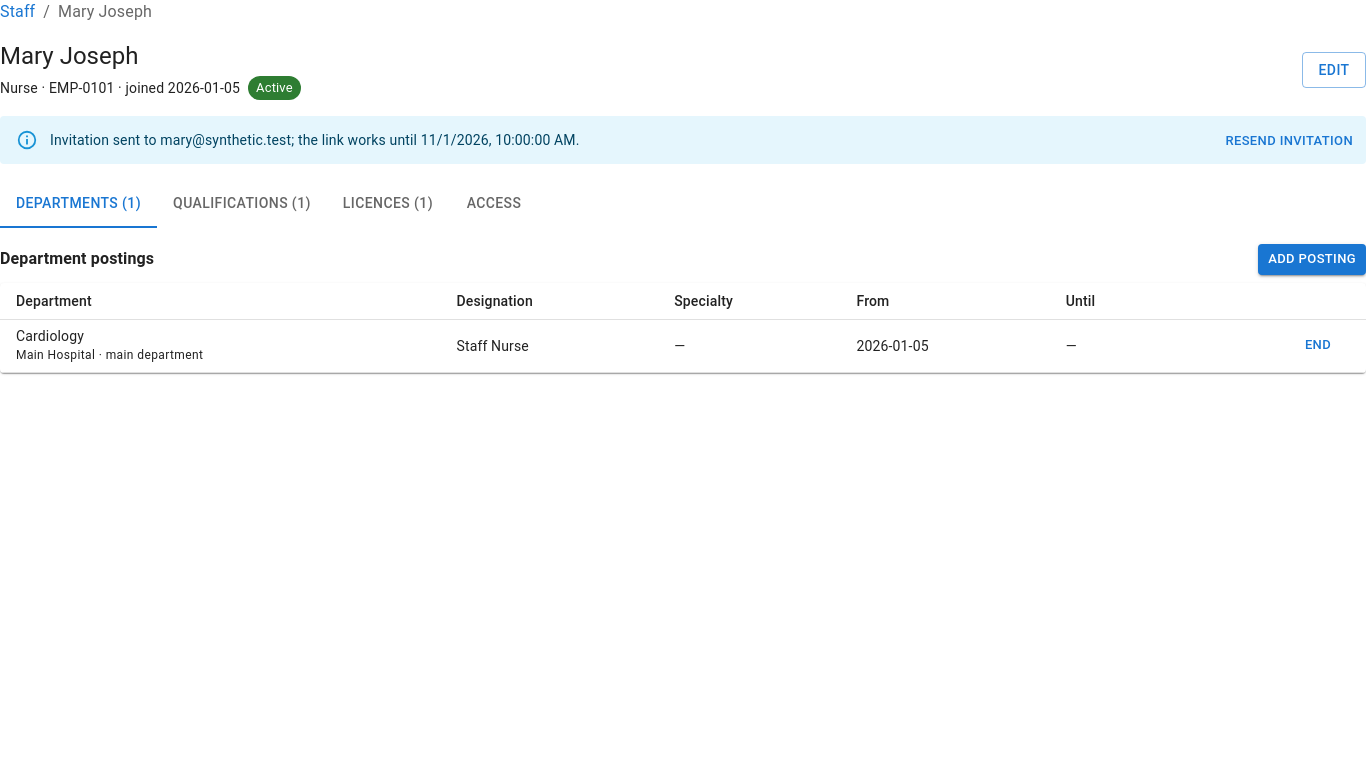
Staff screens › verifies a qualification and shows licence expiry
The image size is (1366, 768).
Click the tab "Qualifications (1)" at {"x": 242, "y": 204}, box left=157, top=180, right=327, bottom=228
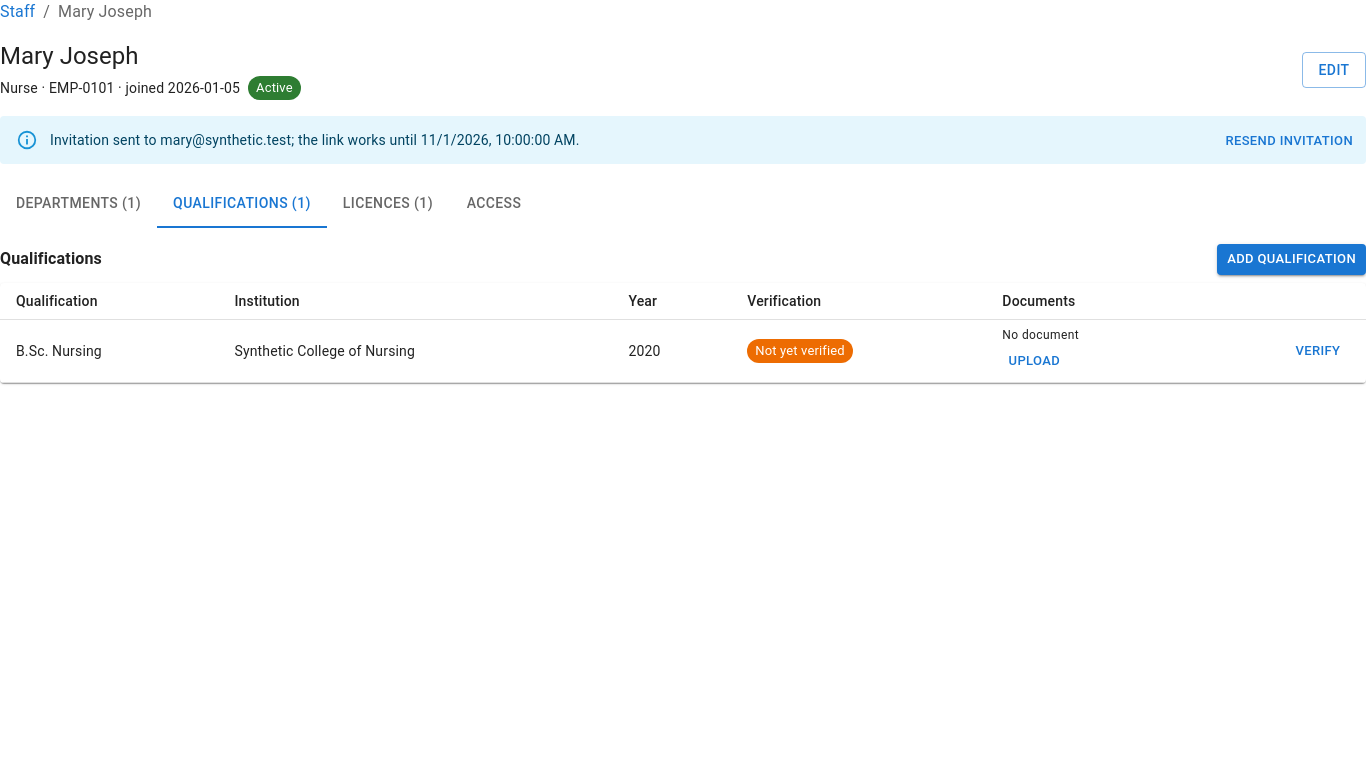
Click the button "Verify" at {"x": 1318, "y": 351}, box left=1286, top=336, right=1350, bottom=366
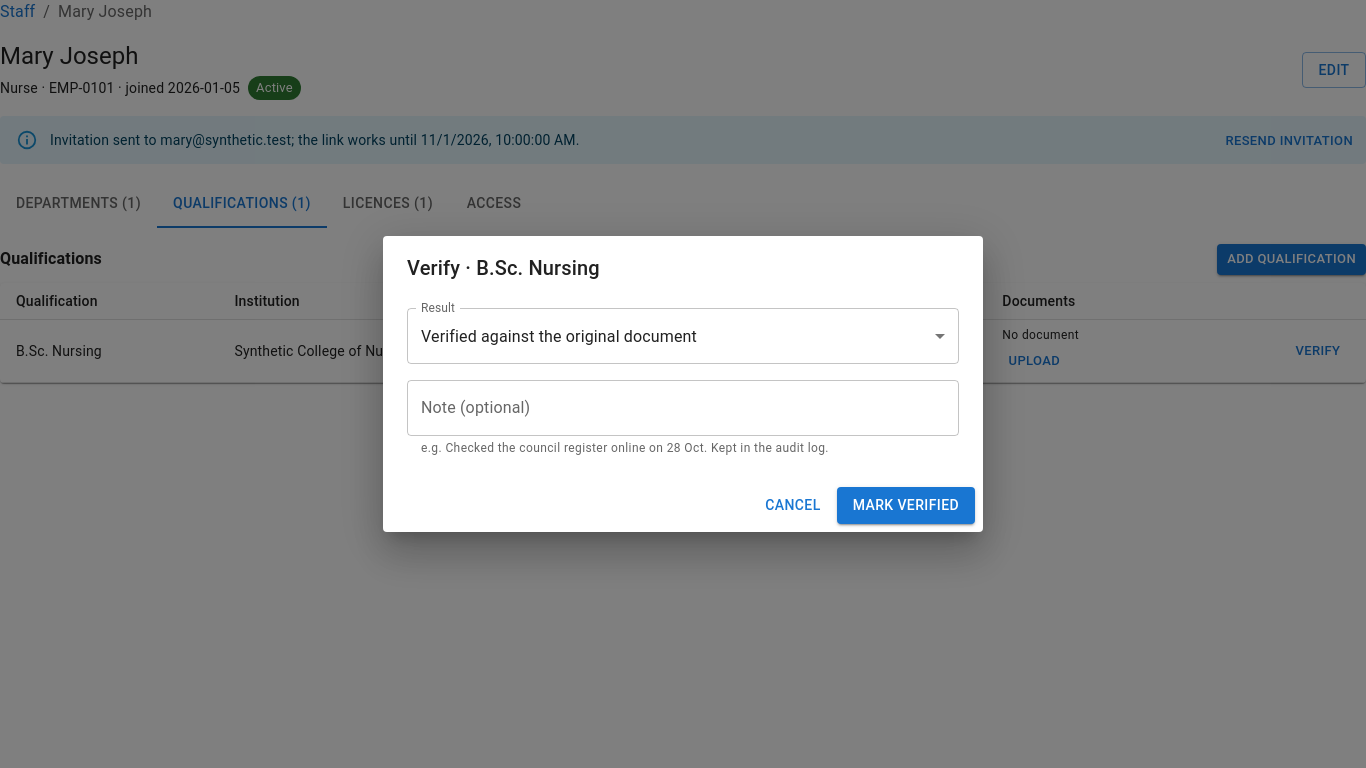
Click the button "Mark verified" at {"x": 906, "y": 505}, box left=837, top=487, right=975, bottom=524
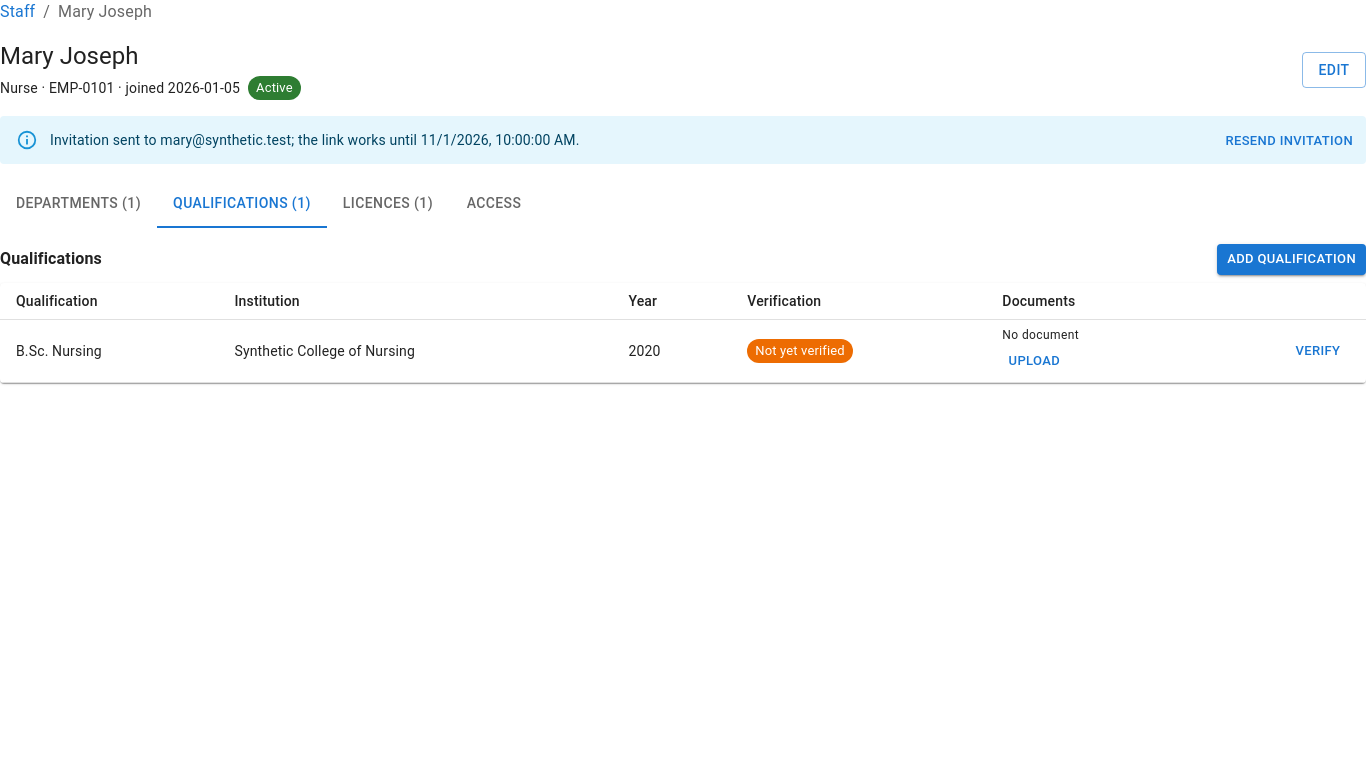
Click the tab "Licences (1)" at {"x": 388, "y": 204}, box left=327, top=180, right=449, bottom=228
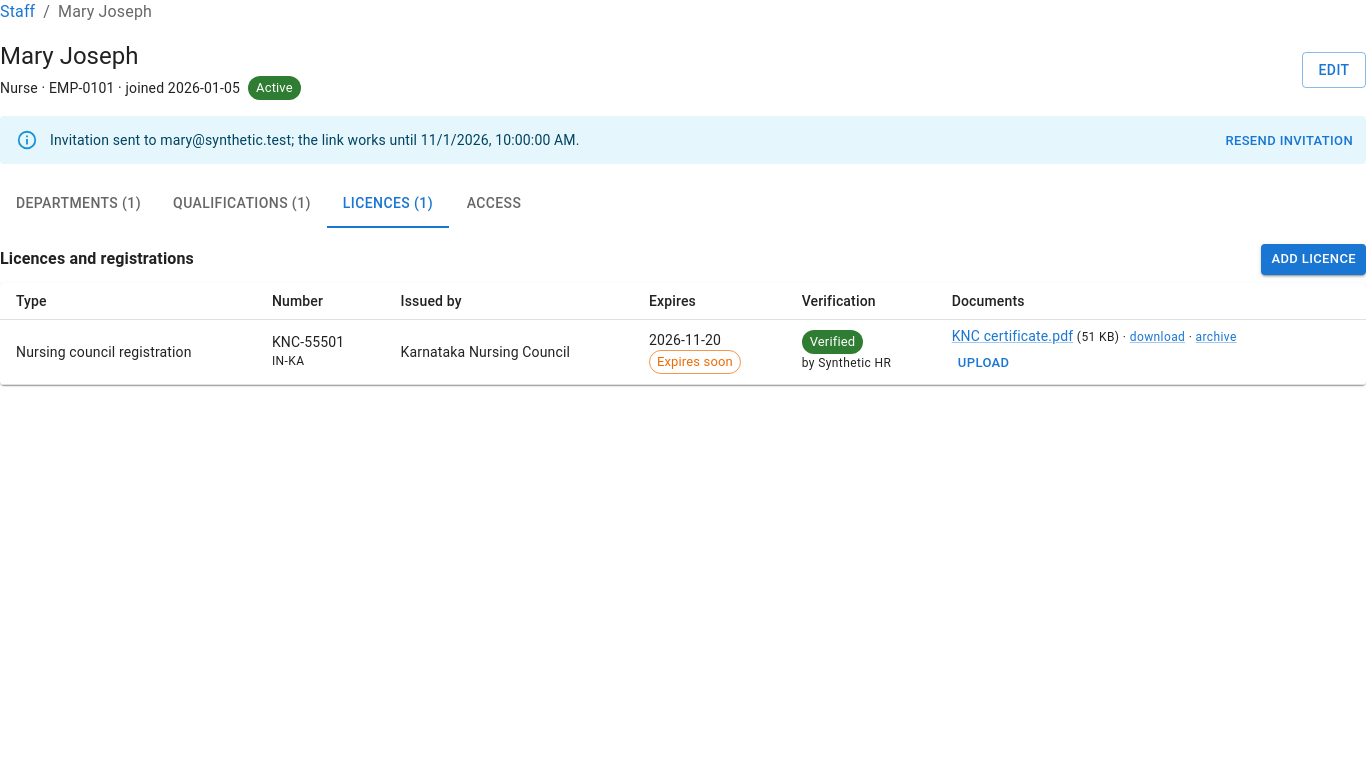
Now the text "Expires soon" is shown, box left=657, top=354, right=733, bottom=369
Now the text "by Synthetic HR" is shown, box left=802, top=356, right=891, bottom=370
